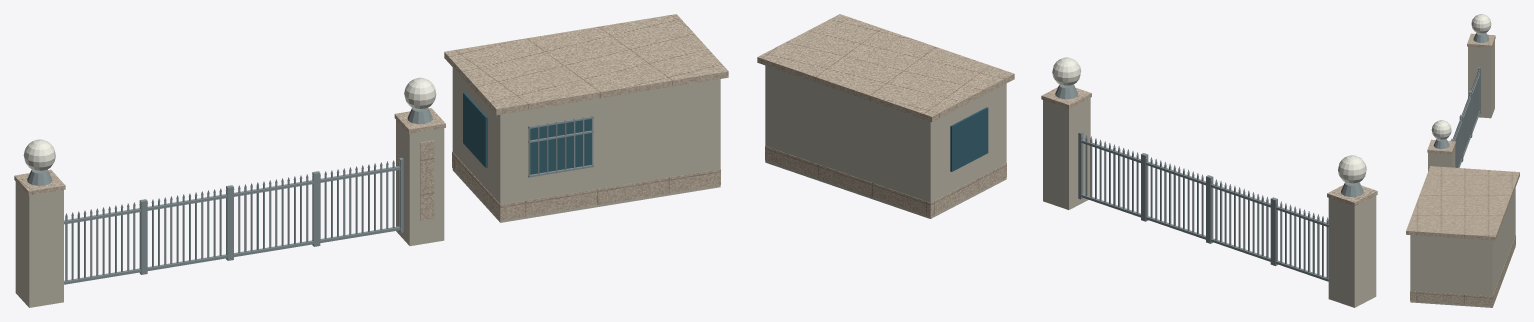
Rendered from north-campus-north-gate.glb.
3 renders of one model, left to right at view 1: azimuth 30°, elevation 25°; view 2: azimuth 150°, elevation 25°; view 3: azimuth 270°, elevation 25°, orthographic. The views are drawn at different scales.
Parts seen in each view (by area): view 1: landmark-north-campus-north-gate; view 2: landmark-north-campus-north-gate; view 3: landmark-north-campus-north-gate.
Part boxes in pixels (x1,y1,x2,y2): landmark-north-campus-north-gate: [14, 14, 728, 307]; landmark-north-campus-north-gate: [757, 14, 1377, 307]; landmark-north-campus-north-gate: [1406, 14, 1519, 307].
Size of the model in its own units: 20.29 by 4.55 by 4.81.
5 materials, 1 textured.
